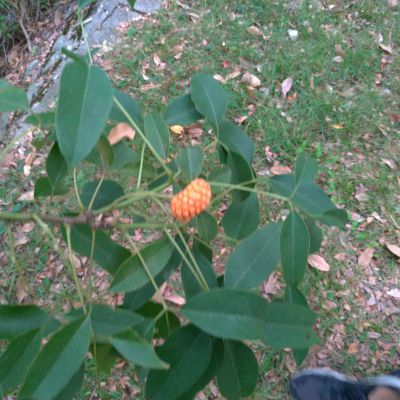eggs: (167, 175, 215, 222)
